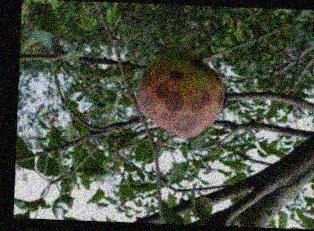rotten apple: (131, 53, 225, 141)
